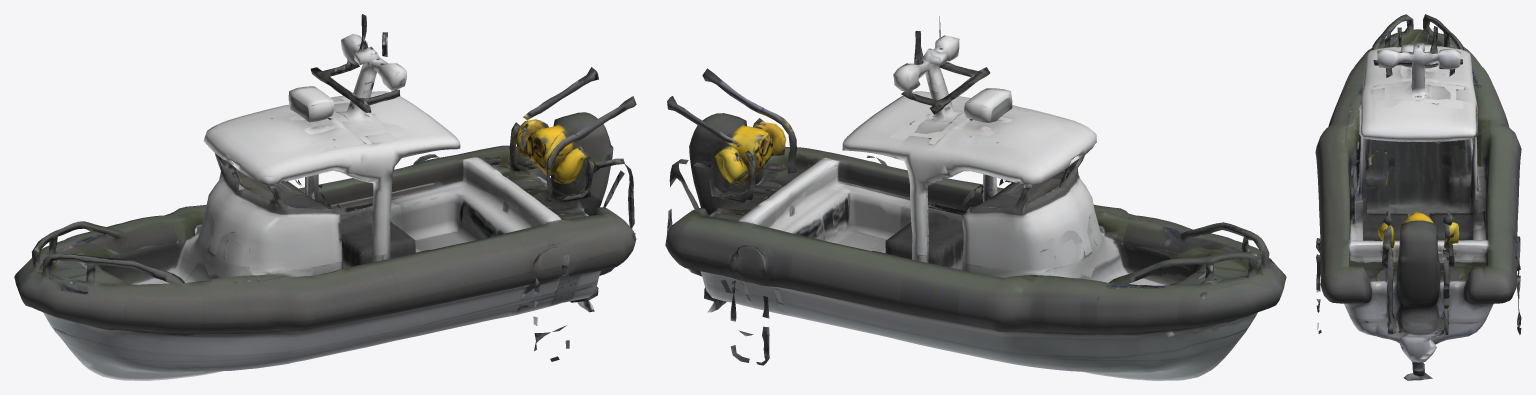
File: Ship2_14-05-25.glb
3 renders of one model, left to right at view 1: azimuth 30°, elevation 25°; view 2: azimuth 150°, elevation 25°; view 3: azimuth 270°, elevation 25°, orthographic. The views are drawn at different scales.
Bounding box in the file's own units: 2 × 1.08 × 0.7439.
1 material, 1 textured.
